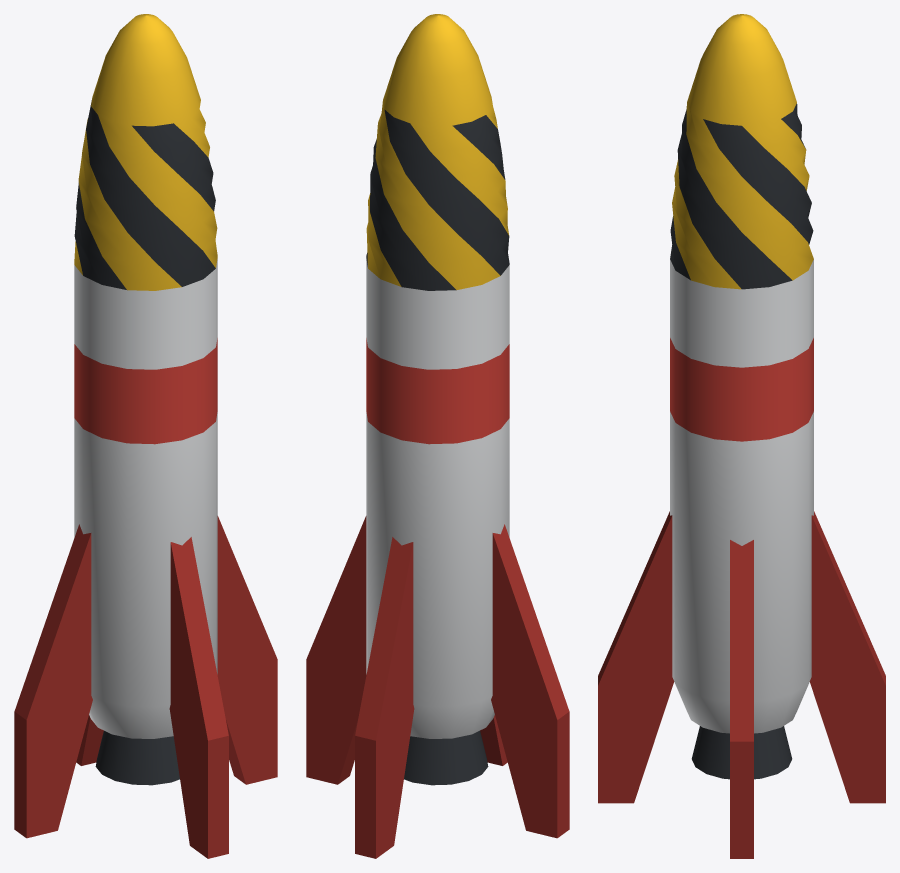
Rendered from unit-atombomb.glb.
3 renders of one model, left to right at view 1: azimuth 30°, elevation 25°; view 2: azimuth 150°, elevation 25°; view 3: azimuth 270°, elevation 25°, orthographic.
Visible parts, largest first — view 1: fuselage, fin (×4), nose, nose_stripe, band, exhaust; view 2: fuselage, fin (×4), nose, nose_stripe, band, exhaust; view 3: fuselage, fin (×3), nose, nose_stripe, band, exhaust.
Boxes of the visible parts, x1,y1,x2,y2 form: fuselage: (74,259,217,738); fin (×4): (14,516,277,858); nose: (74,14,217,290); nose_stripe: (74,100,215,289); band: (74,338,217,444); exhaust: (95,730,179,785); fuselage: (366,259,509,738); fin (×4): (306,516,569,858); nose: (366,14,509,289); nose_stripe: (366,109,509,290); band: (366,338,509,444); exhaust: (404,730,488,785); fuselage: (670,259,813,733); fin (×3): (598,511,885,858); nose: (672,14,813,289); nose_stripe: (670,103,813,289); band: (670,338,813,441); exhaust: (691,726,792,779).
Size of the model in its own units: 6 by 18 by 6.
